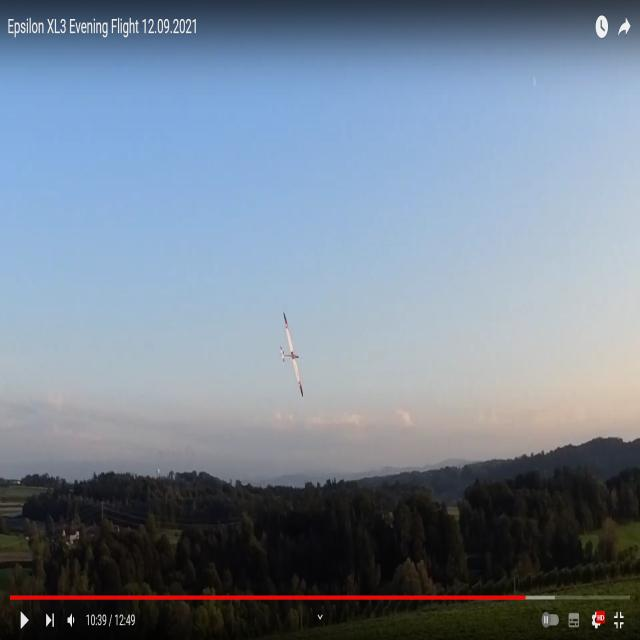iha: (279, 343, 307, 368)
